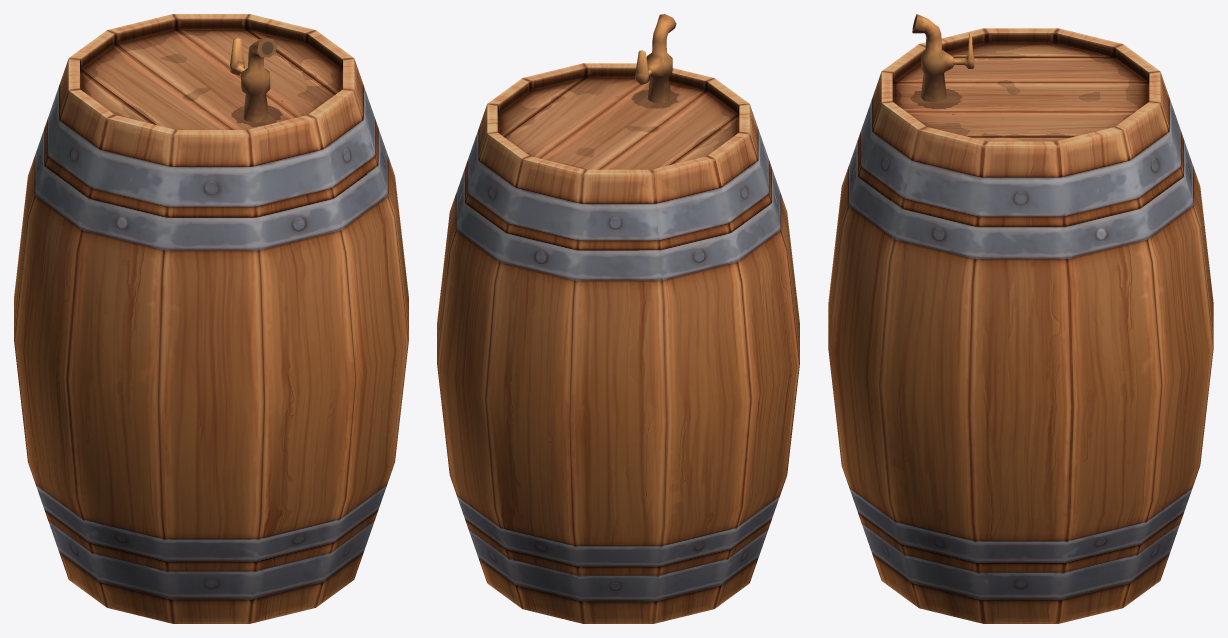
Rendered from BarrelWooden01_2.FBX.
3 renders of one model, left to right at view 1: azimuth 30°, elevation 25°; view 2: azimuth 150°, elevation 25°; view 3: azimuth 270°, elevation 25°, orthographic. The views are drawn at different scales.
Visible parts, largest first — view 1: BarrelWooden01_2; view 2: BarrelWooden01_2; view 3: BarrelWooden01_2.
Part boxes in pixels (x1=…): BarrelWooden01_2: x1=14, y1=14, x2=408, y2=623; BarrelWooden01_2: x1=437, y1=14, x2=799, y2=623; BarrelWooden01_2: x1=828, y1=14, x2=1213, y2=623.
Size of what is drawn, in the model's own units: 0.7252 by 1.14 by 0.7252.
